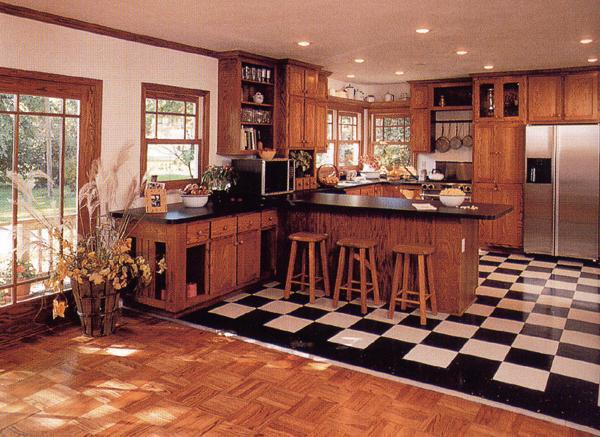Electrodomestico: (526, 122, 595, 262)
